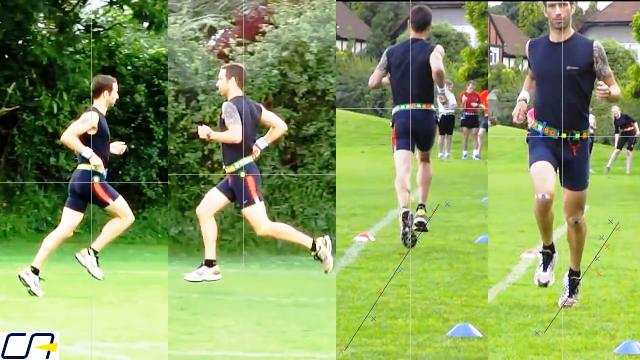berlari: (182, 59, 334, 299), (514, 5, 622, 318), (12, 67, 144, 307), (362, 1, 454, 253)
